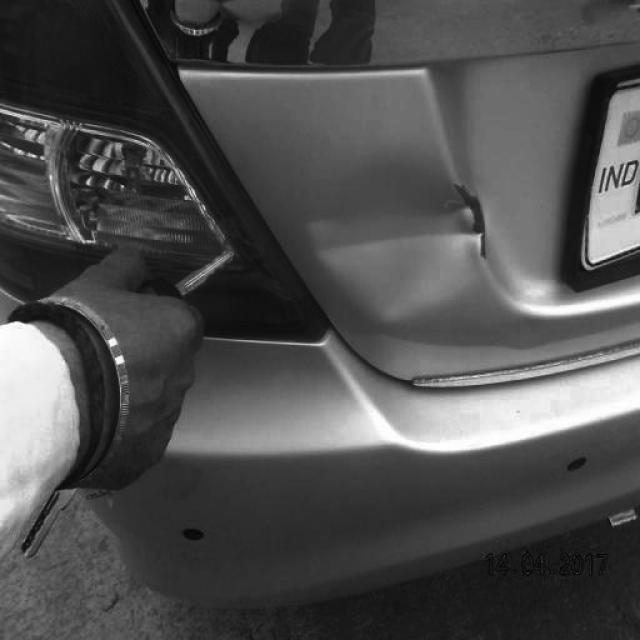car damage: (306, 182, 495, 332), (450, 181, 491, 260)
